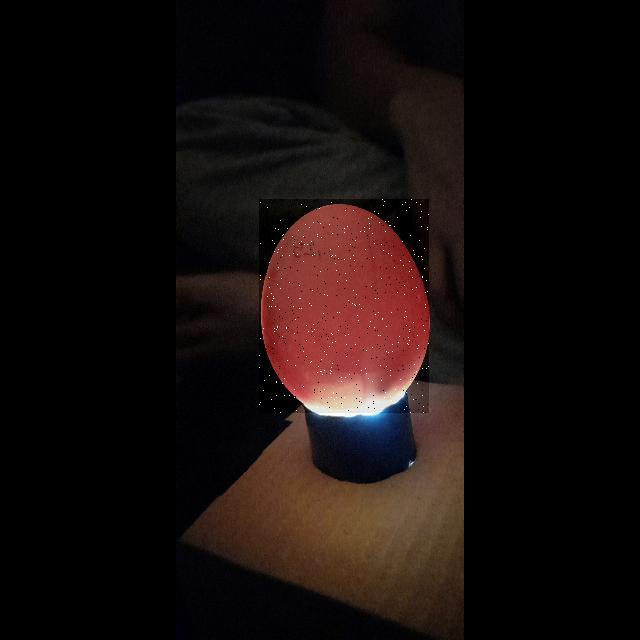Fertile: (259, 199, 429, 413)
